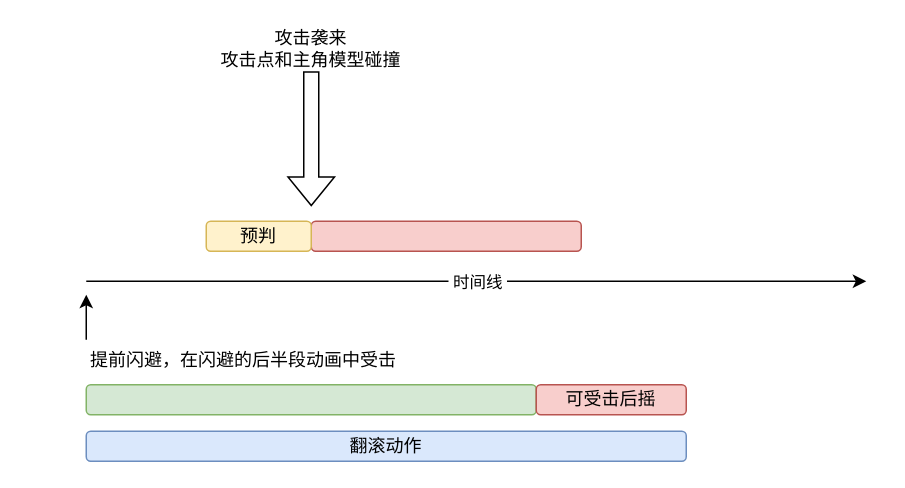
This 905x488 diagram has some shape labels left out. Here are the shapes that lost their labels. From the top down, the centre of each, then its label:
the point at 445,235: 攻击判定
the point at 310,399: 翻滚无敌帧
